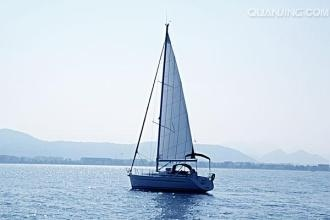fanchuan: (125, 18, 217, 190)
